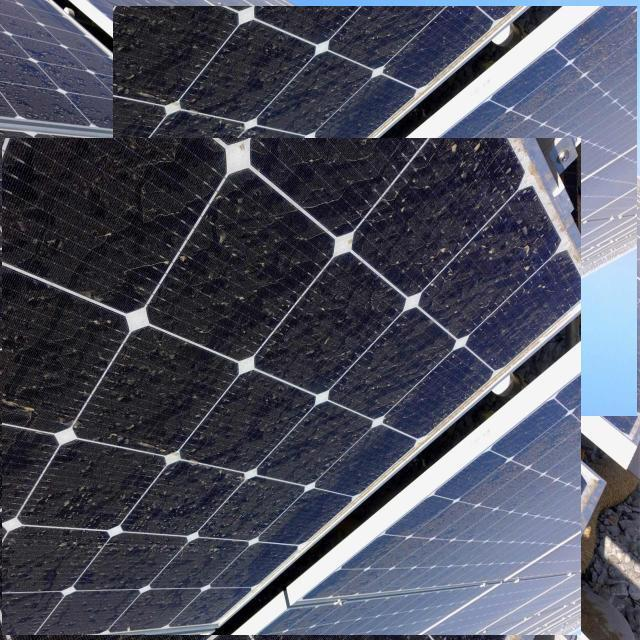Dusty: (2, 138, 581, 635), (236, 353, 585, 640), (113, 2, 527, 140), (430, 2, 640, 273), (0, 0, 114, 131)
